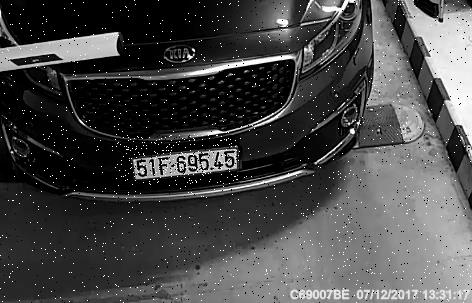License-plate: (123, 136, 243, 186)
